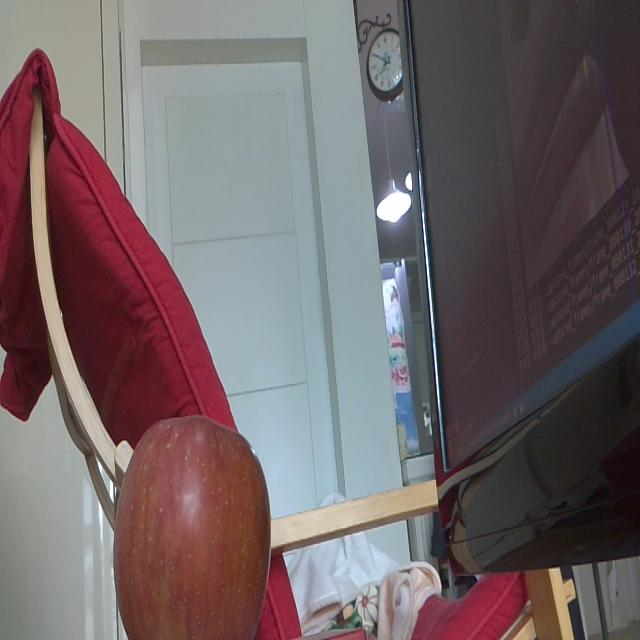apple: (114, 415, 268, 640)
